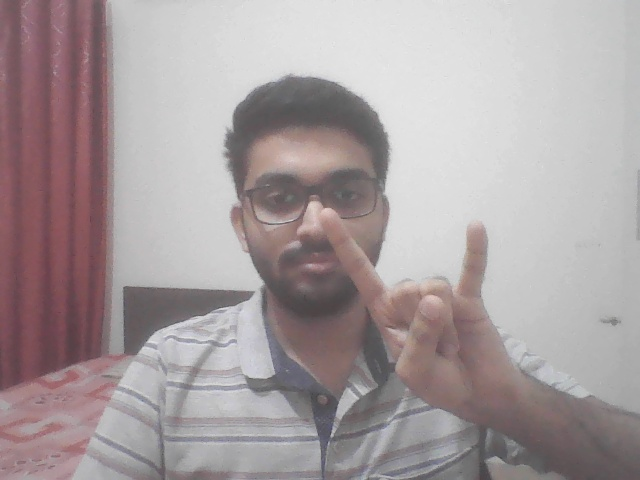iloveyou: (295, 203, 523, 442)
